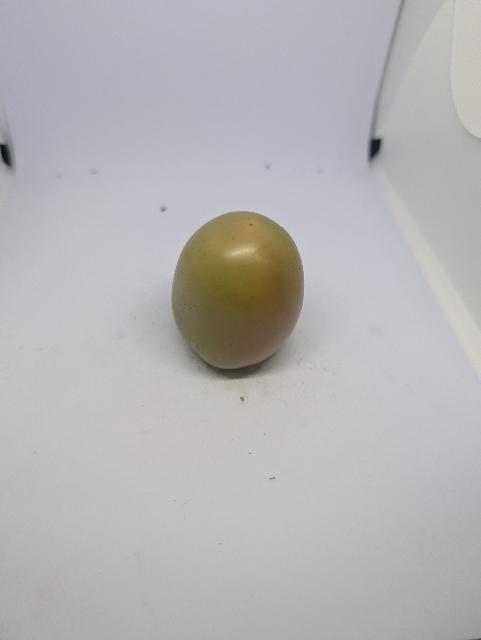breaker: (172, 212, 304, 369)
